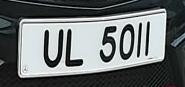0: (117, 21, 136, 62)
1: (135, 18, 146, 60), (143, 17, 153, 60)
5: (100, 23, 118, 63)
L: (65, 25, 90, 71)
U: (38, 24, 67, 72)
